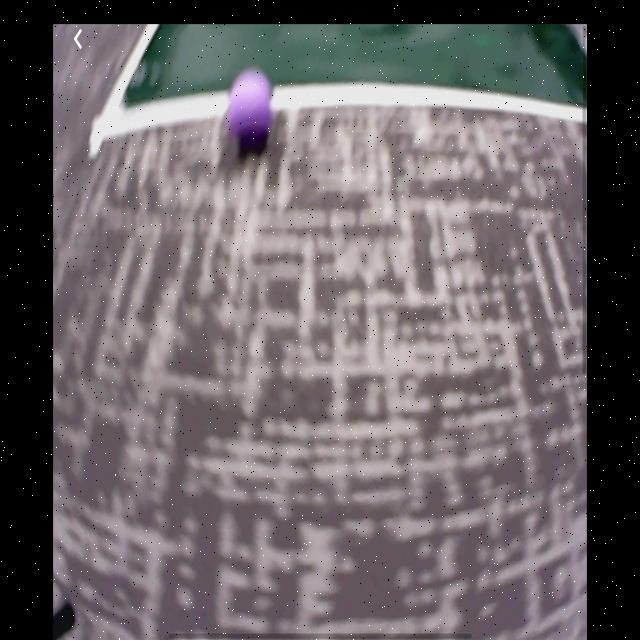ball: (226, 67, 275, 159)
